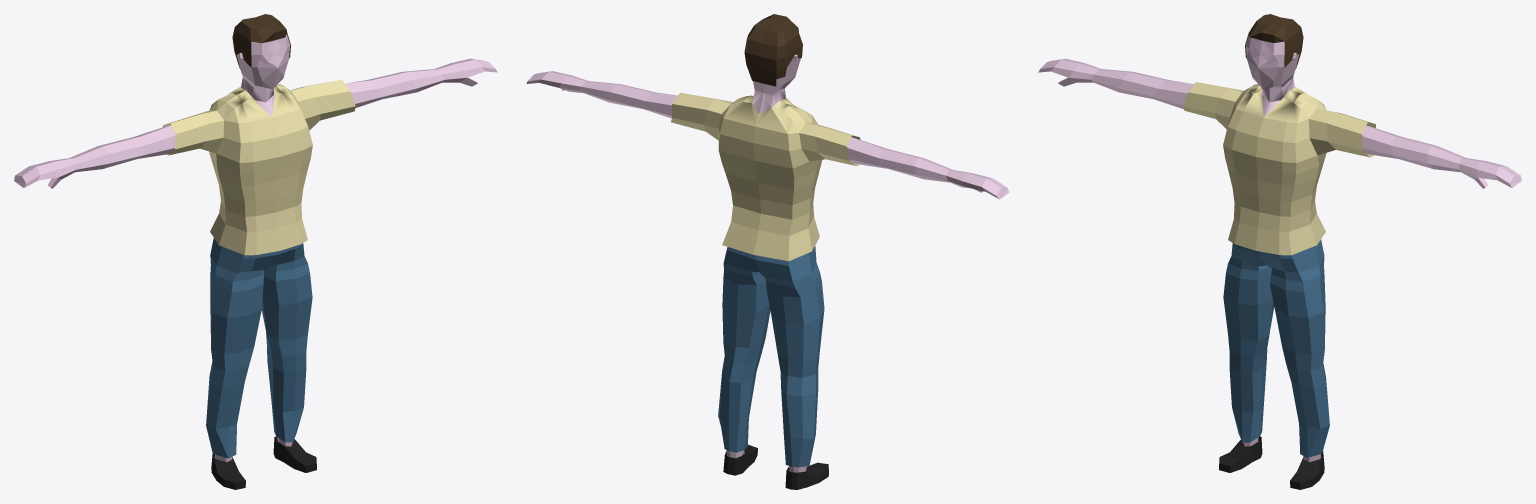
The model's file is BaseCustomer.fbx.
3 renders of one model, left to right at view 1: azimuth 30°, elevation 25°; view 2: azimuth 150°, elevation 25°; view 3: azimuth 330°, elevation 25°, orthographic.
Parts seen in each view (by area): view 1: TShirt, Pants, Male, Shoes, HairShort; view 2: TShirt, Pants, Male, HairShort, Shoes; view 3: TShirt, Pants, Male, Shoes, HairShort.
Part boxes in pixels (<box>): TShirt: <box>162,80,355,255</box>; Pants: <box>206,238,312,458</box>; Male: <box>14,34,497,462</box>; Shoes: <box>211,436,316,489</box>; HairShort: <box>232,14,290,68</box>; TShirt: <box>671,92,860,261</box>; Pants: <box>718,246,824,467</box>; Male: <box>526,54,1009,472</box>; HairShort: <box>744,14,802,86</box>; Shoes: <box>723,444,828,489</box>; TShirt: <box>1183,82,1375,255</box>; Pants: <box>1223,239,1329,457</box>; Male: <box>1038,35,1521,462</box>; Shoes: <box>1219,436,1324,489</box>; HairShort: <box>1245,14,1303,68</box>.
Size of the model in its own units: 1709 by 1546 by 243.
